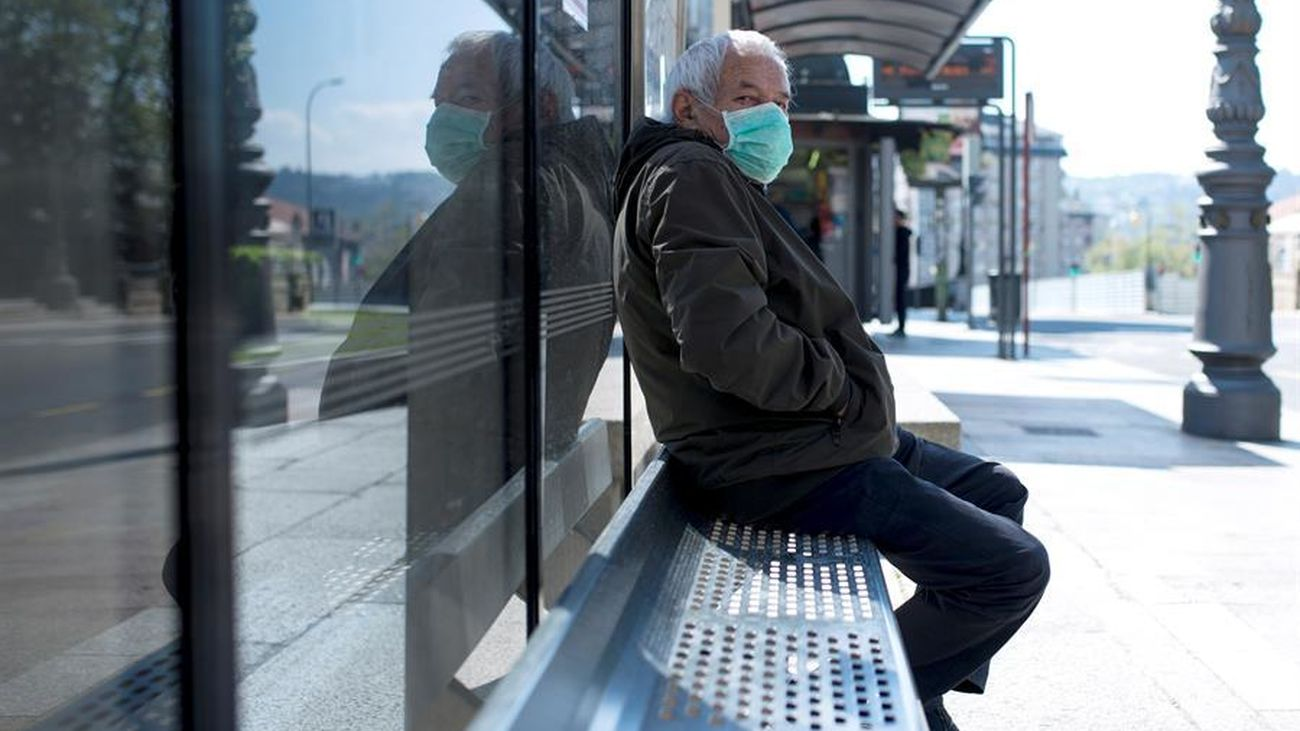with_mask: (668, 38, 809, 187)
